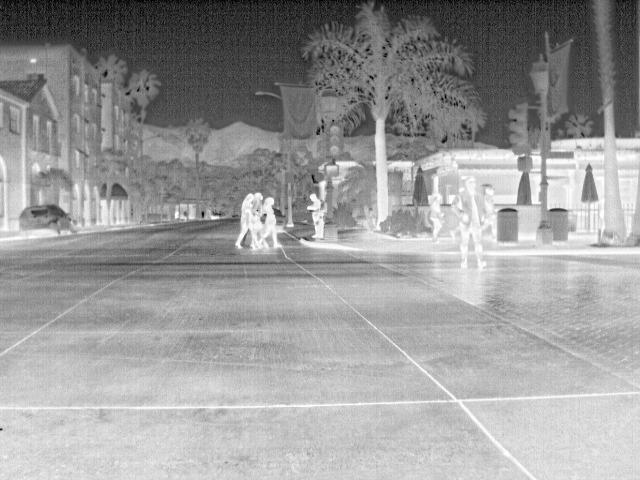car: (15, 204, 77, 238)
person: (452, 176, 491, 269), (233, 192, 260, 253), (259, 193, 286, 249), (304, 191, 326, 243), (478, 185, 497, 237), (425, 191, 444, 240)
